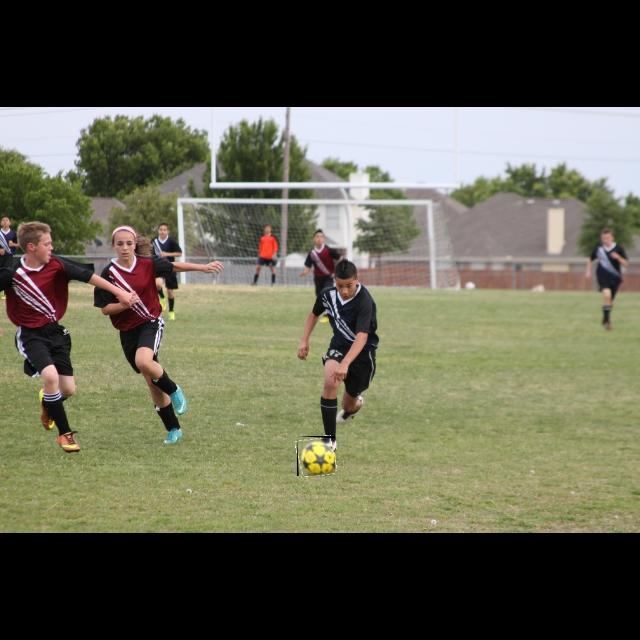Football: (297, 436, 335, 476)
